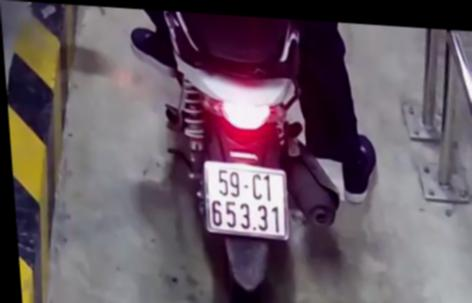License_Plate: (191, 155, 302, 246)
